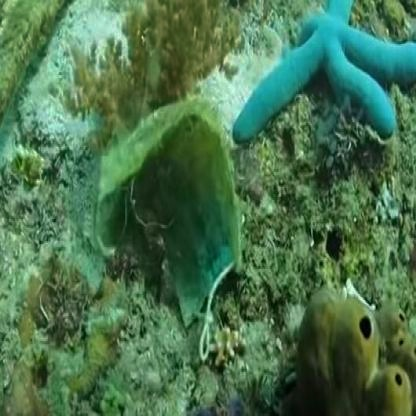Mask: (97, 101, 241, 328)
